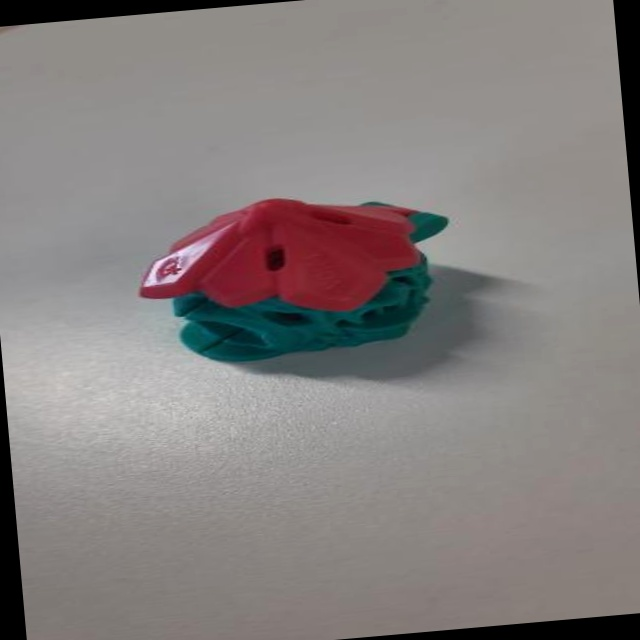House: (122, 180, 470, 388)
